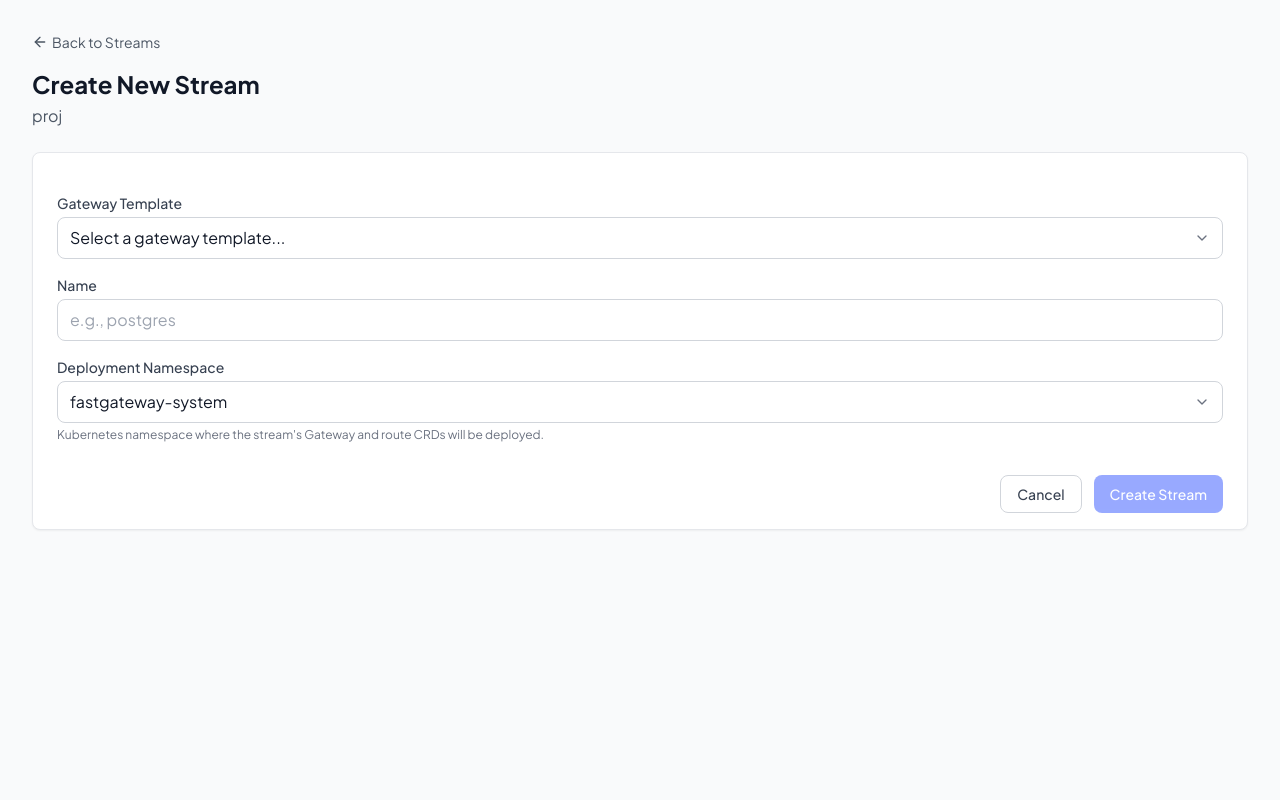
Scenario: surfaces the create error: 409 name taken
The width and height of the screenshot is (1280, 800).
Step 1. Select "tpl — Dedicated IP" in the dropdown labelled "Gateway Template" → (640, 238), box x1=57 y1=217 x2=1223 y2=259
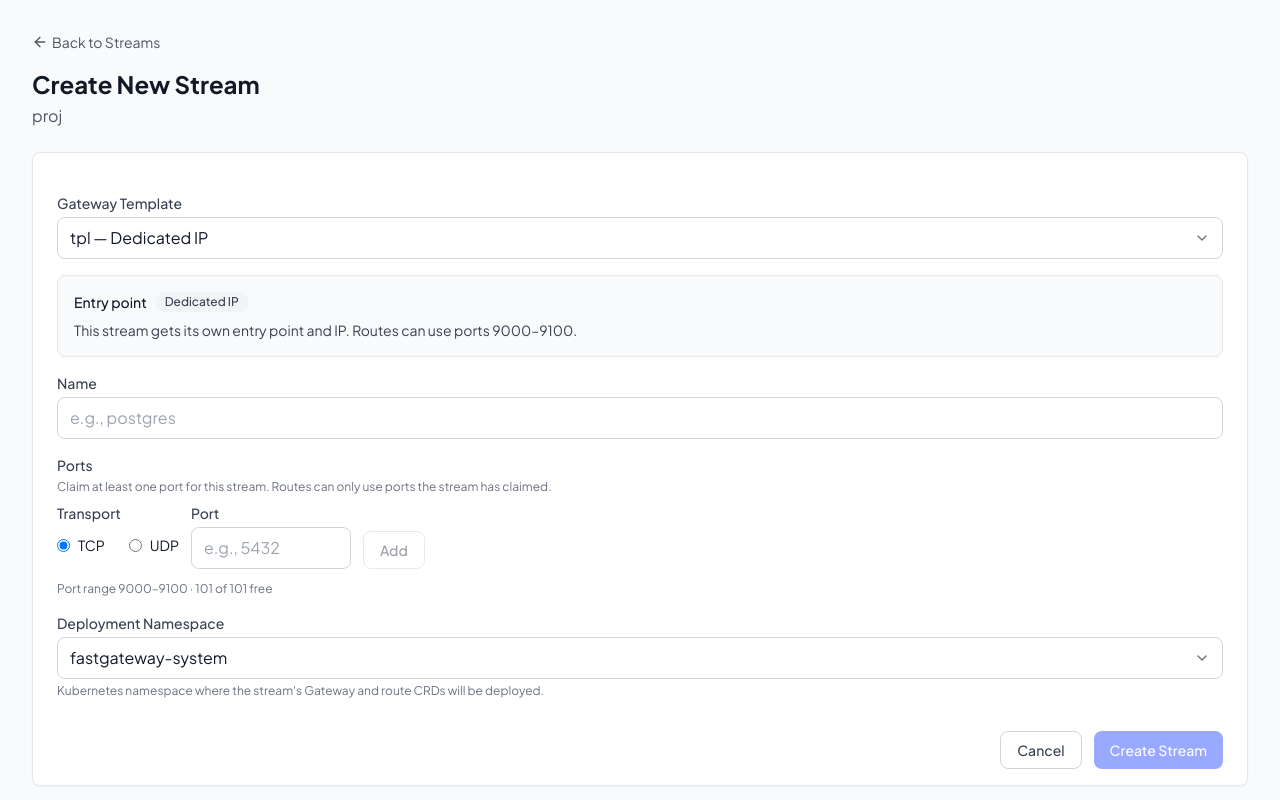
expect the element with test id "entrypoint-summary" shows "Dedicated IP": met, box x1=165 y1=294 x2=239 y2=309
Step 2. Type "pg" into the field labelled "Name" → (640, 418), box x1=57 y1=397 x2=1223 y2=439
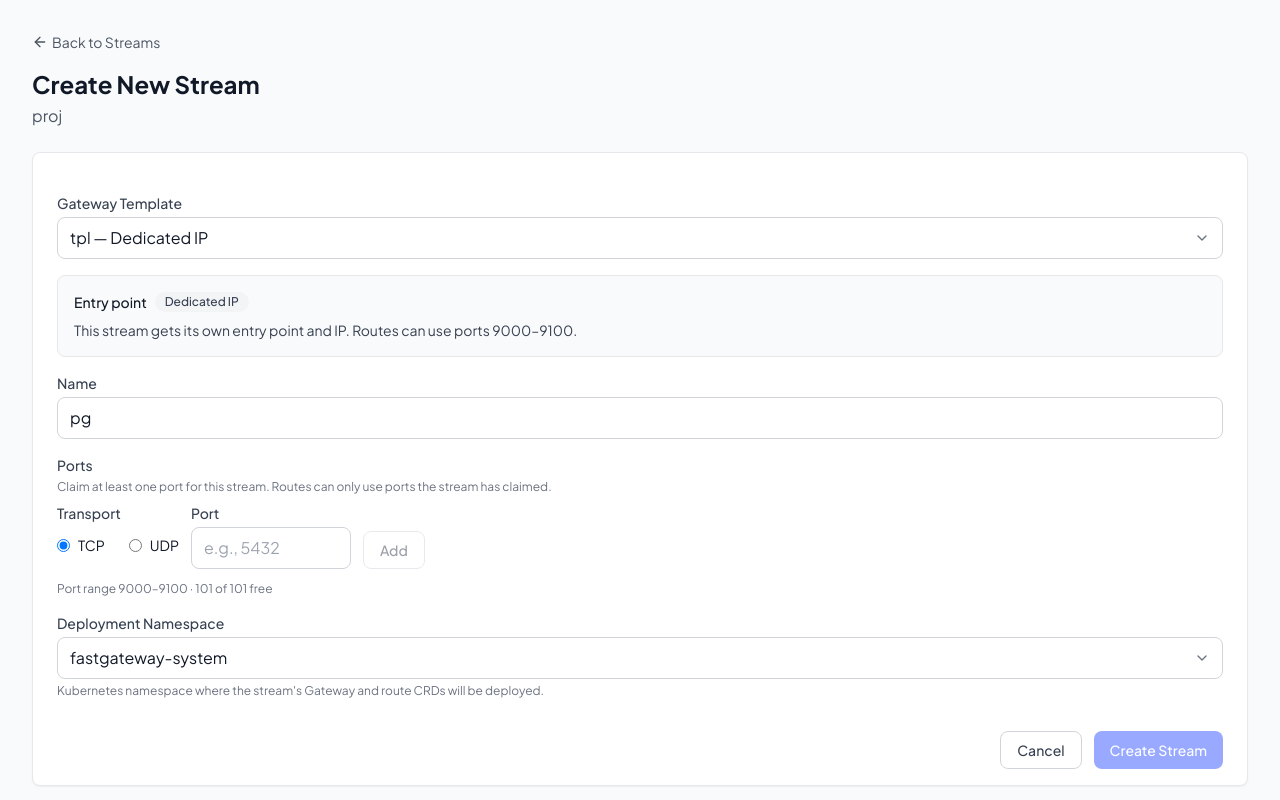
Step 3. Type "9050" into the field labelled "Port" → (271, 548), box x1=191 y1=527 x2=351 y2=569
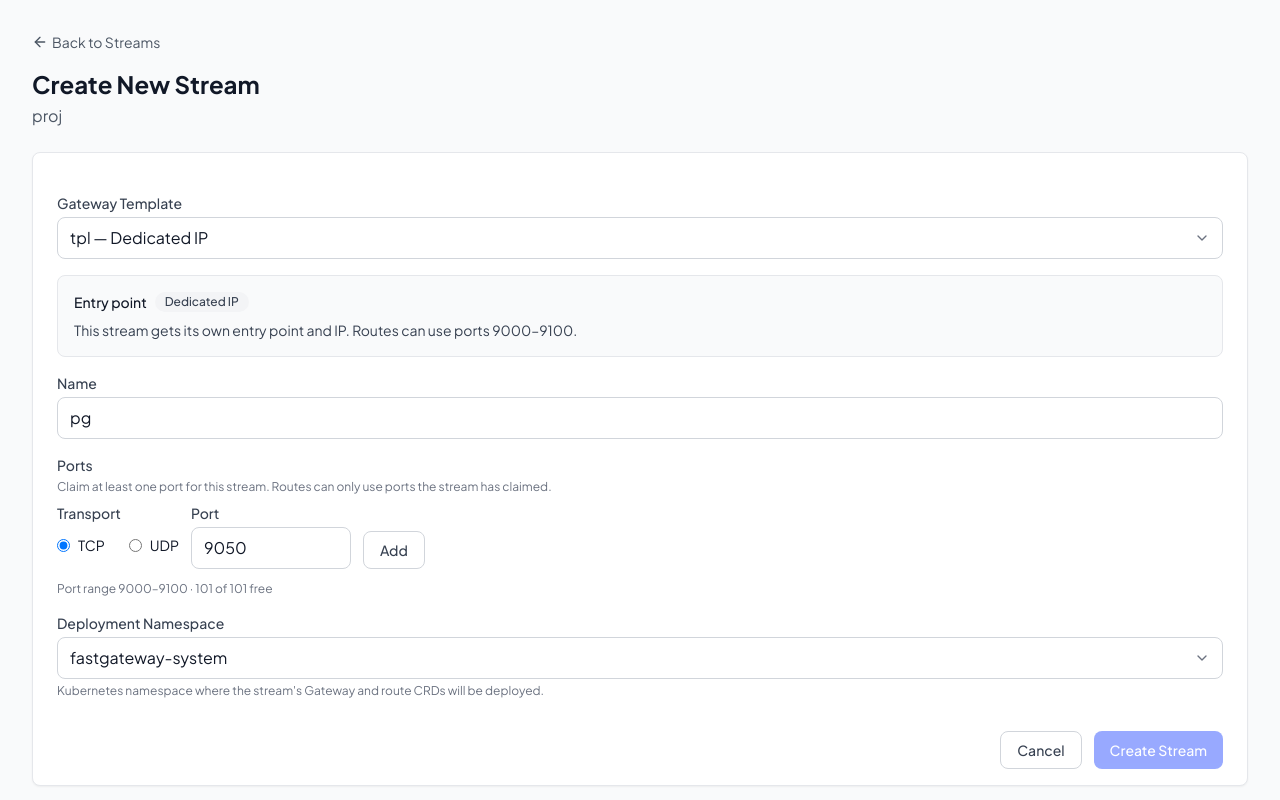
Step 4. Click the button "Add" → (394, 550), box x1=363 y1=531 x2=425 y2=569
(page scrolled)
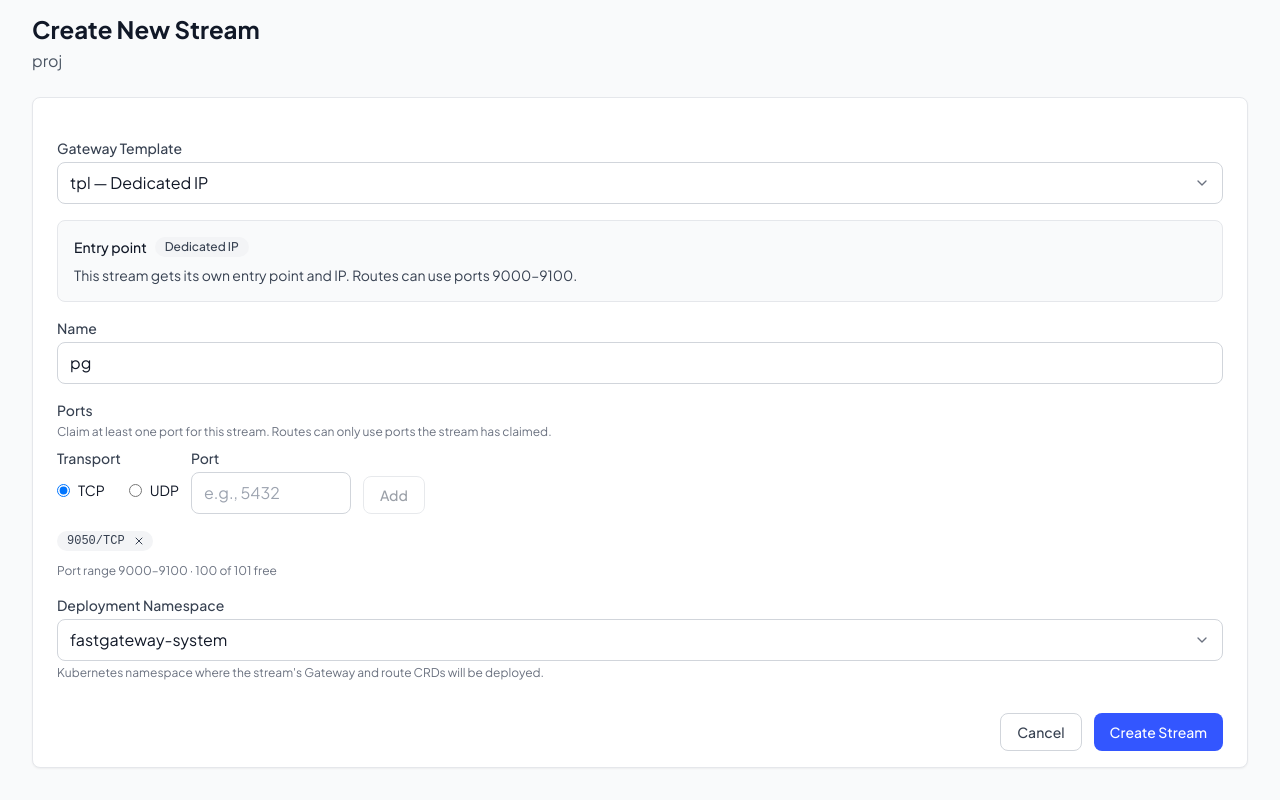
Step 5. Click the button "Create Stream" → (1158, 732), box x1=1094 y1=713 x2=1223 y2=751
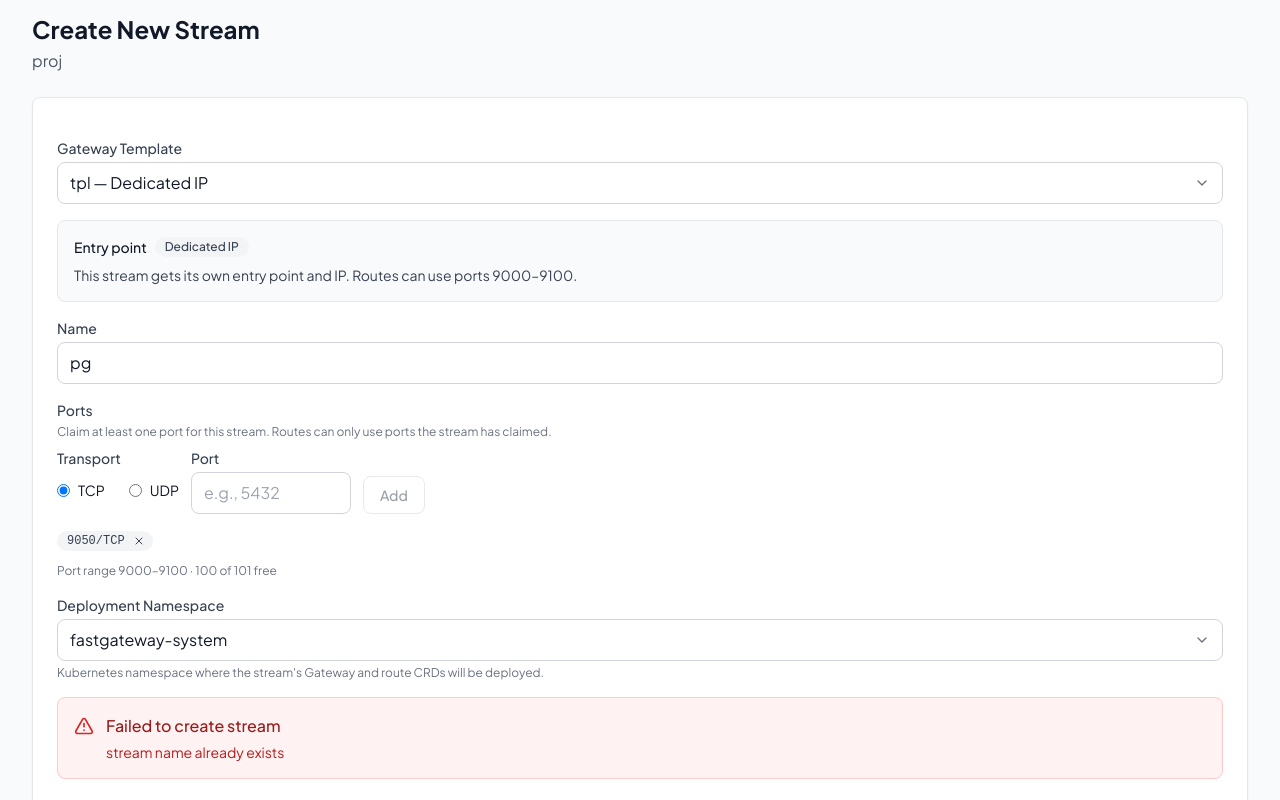
expect the text "stream name already exists" is shown: met, box x1=106 y1=742 x2=284 y2=762
